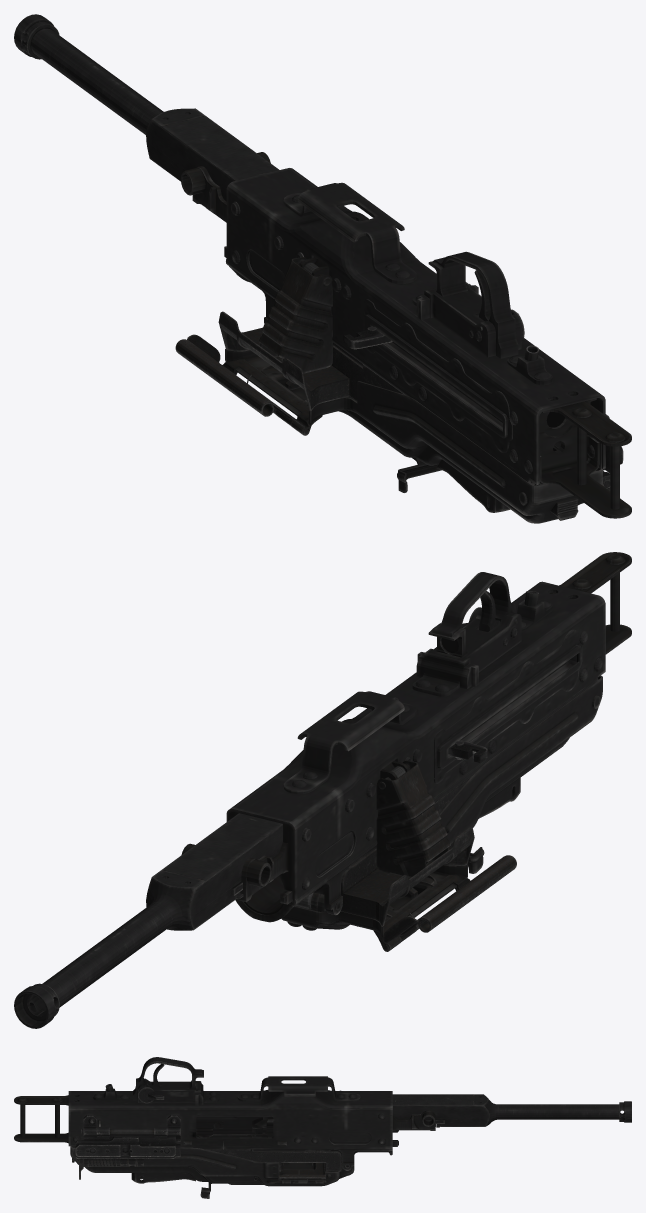
3 views of the same model, one above another, from view 1: azimuth 30°, elevation 25°; view 2: azimuth 150°, elevation 25°; view 3: azimuth 270°, elevation 25° (orthographic). The views are drawn at different scales.
Parts seen in each view (by area): view 1: TW_64ca3d3954fc657e230529cc_PZ_Import; view 2: TW_64ca3d3954fc657e230529cc_PZ_Import; view 3: TW_64ca3d3954fc657e230529cc_PZ_Import.
Part boxes in pixels (<box>): TW_64ca3d3954fc657e230529cc_PZ_Import: <box>14,14,631,523</box>; TW_64ca3d3954fc657e230529cc_PZ_Import: <box>14,552,631,1028</box>; TW_64ca3d3954fc657e230529cc_PZ_Import: <box>14,1057,631,1198</box>.
Bounding box in the file's own units: 0.0754 × 0.3816 × 0.0897.
1 material, 1 textured.
